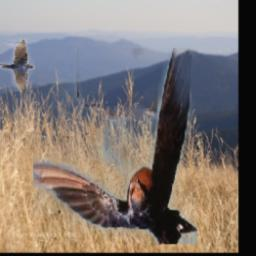Swallow: (33, 49, 197, 245), (0, 39, 34, 92)
